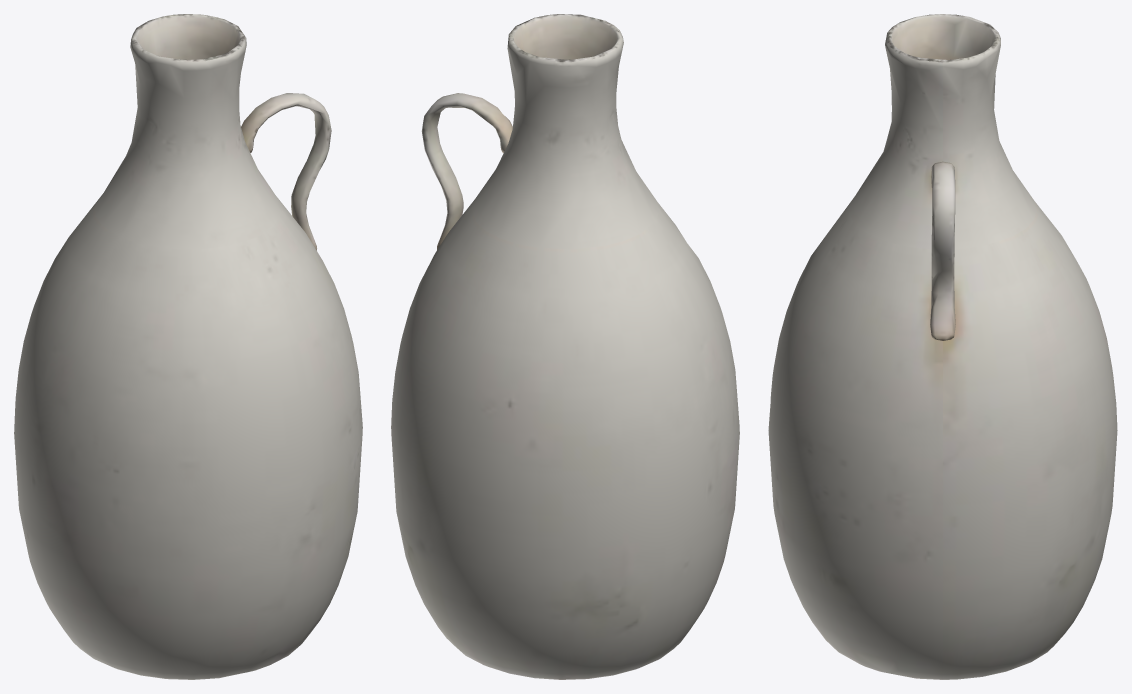
The model's file is vase-jug.glb.
The picture shows the model from 3 angles, left to right: view 1: azimuth 30°, elevation 25°; view 2: azimuth 150°, elevation 25°; view 3: azimuth 270°, elevation 25°; orthographic projection.
Visible parts, largest first — view 1: ceramic_vase_04; view 2: ceramic_vase_04; view 3: ceramic_vase_04.
Part boxes in pixels (x1,y1,x2,y2): ceramic_vase_04: [14, 14, 362, 679]; ceramic_vase_04: [391, 14, 739, 679]; ceramic_vase_04: [768, 14, 1117, 679].
Bounding box in the file's own units: 0.1811 × 0.3419 × 0.1811.
Materials: 1 (1 with a texture image).
